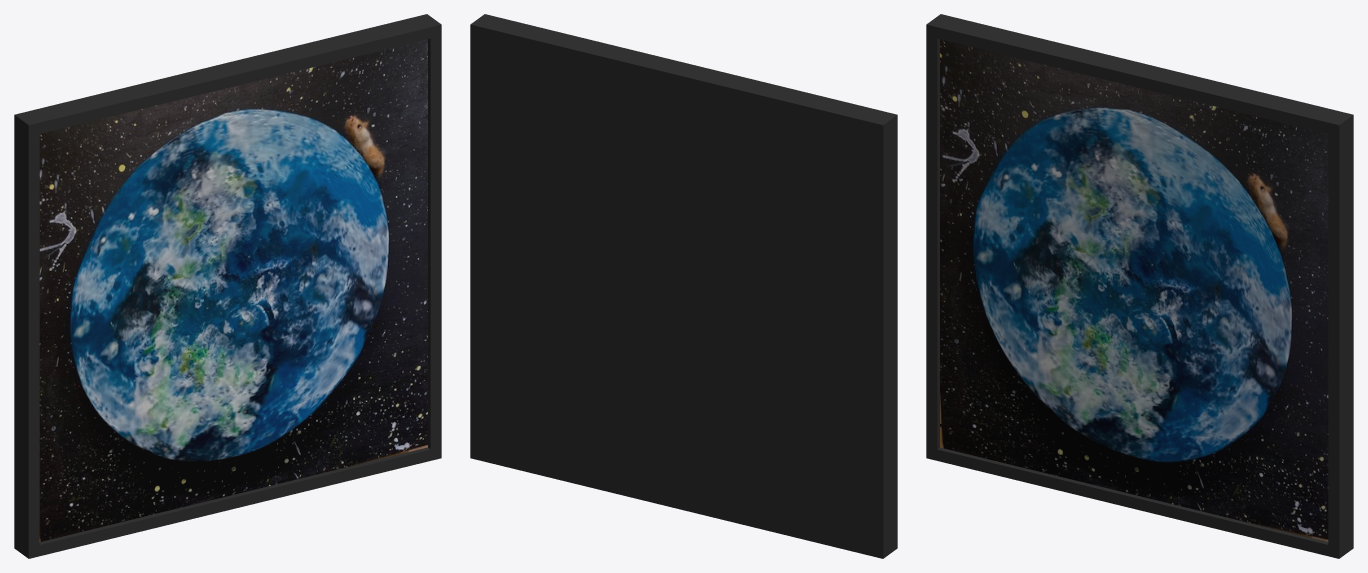
The model's file is ART26_IMG_3260.fbx.
3 views of the same model, side by side, from view 1: azimuth 30°, elevation 25°; view 2: azimuth 150°, elevation 25°; view 3: azimuth 330°, elevation 25° (orthographic).
Visible parts, largest first — view 1: ART26_IMG_3260; view 2: ART26_IMG_3260; view 3: ART26_IMG_3260.
Part boxes in pixels (box(x1,y1,x2,y2)): ART26_IMG_3260: box(14, 14, 441, 558); ART26_IMG_3260: box(470, 14, 897, 558); ART26_IMG_3260: box(926, 14, 1353, 558).
Size of the model in its own units: 95 by 5.75 by 95.38.
2 materials, 1 textured.
